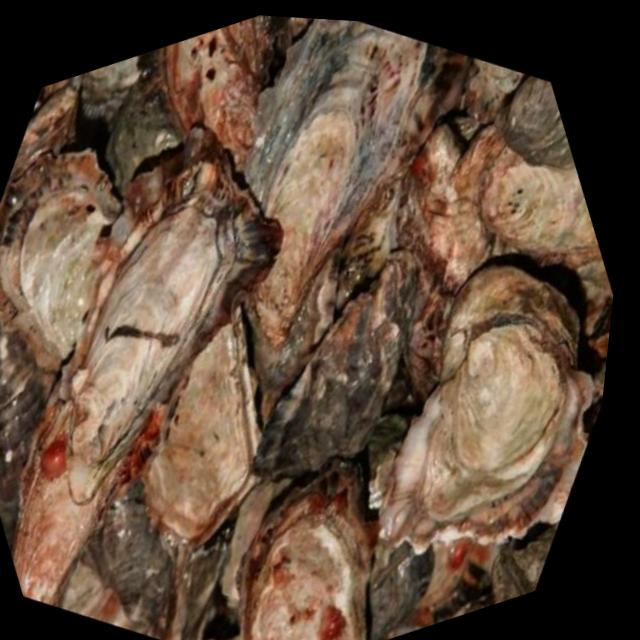Oyster-Closed: (382, 116, 554, 300), (487, 524, 559, 604)
Oyster-Indeterminate: (64, 157, 267, 498), (0, 342, 196, 639), (253, 18, 424, 300), (423, 266, 592, 538), (46, 474, 221, 640), (144, 308, 263, 547), (0, 150, 123, 373), (254, 292, 401, 474), (242, 467, 371, 640), (159, 15, 283, 153), (127, 518, 266, 640), (80, 47, 185, 199), (239, 256, 339, 411), (484, 150, 603, 268), (338, 149, 428, 285), (0, 313, 47, 528), (14, 73, 105, 176), (496, 78, 577, 175), (353, 409, 416, 520), (365, 542, 436, 640), (73, 50, 160, 123), (371, 249, 440, 334), (463, 55, 533, 126)
